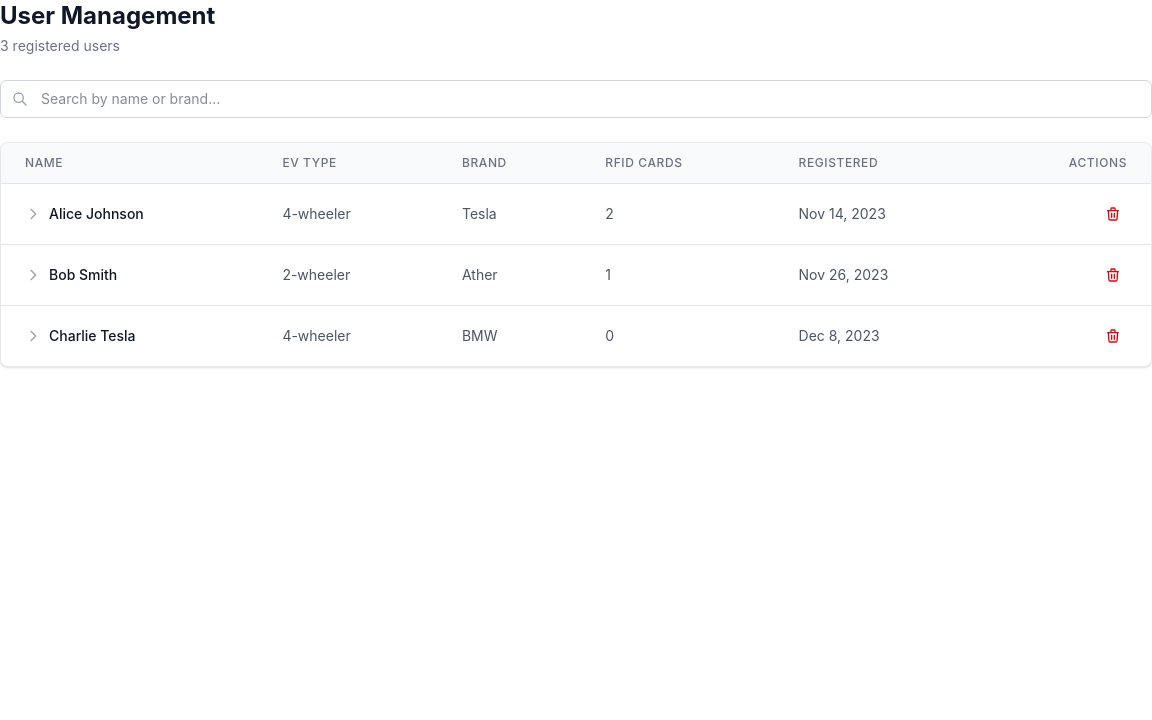
Test: UserManagementPage › Delete confirmation dialog › clicking delete shows a confirmation dialog
This screenshot has width=1152, height=720.
Expected: the text "Alice Johnson" is shown, [25,205,144,222]
Click the button named "Delete user Alice Johnson" at (1113, 214), box [1099,200,1127,228]
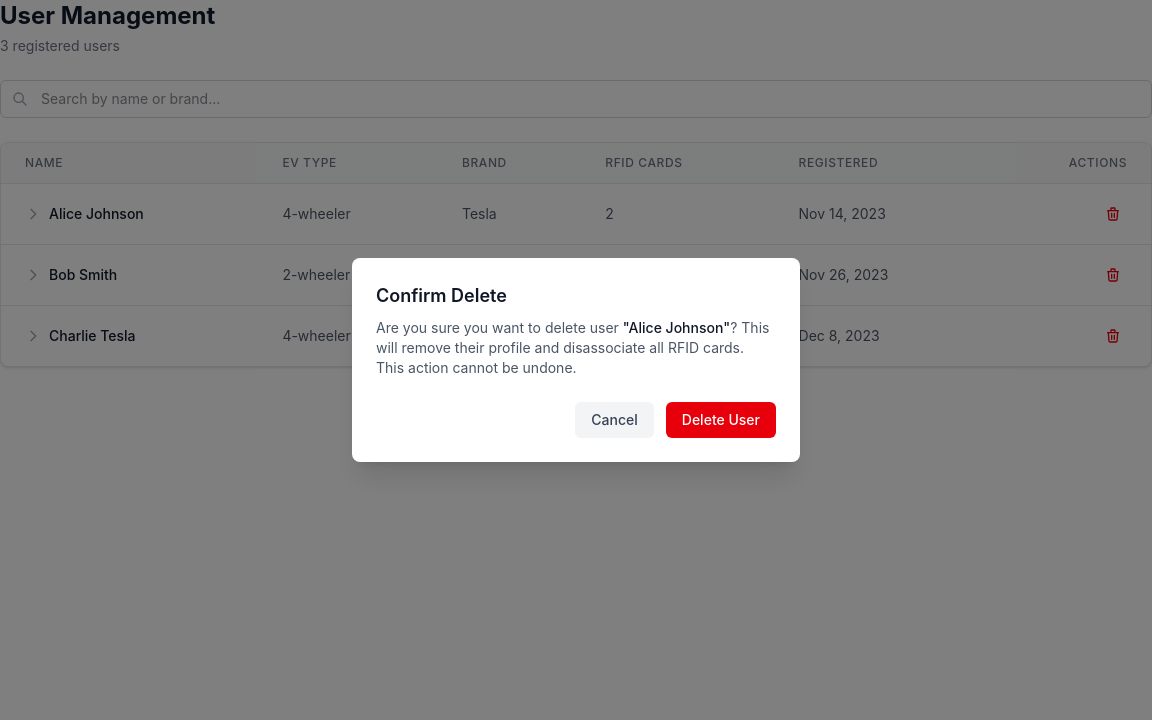
Expected: the dialog is shown
Expected: the heading "Confirm Delete" is shown, [376,285,507,306]
Expected: the text "Are you sure you want to delete user" is shown, [376,319,619,336]
